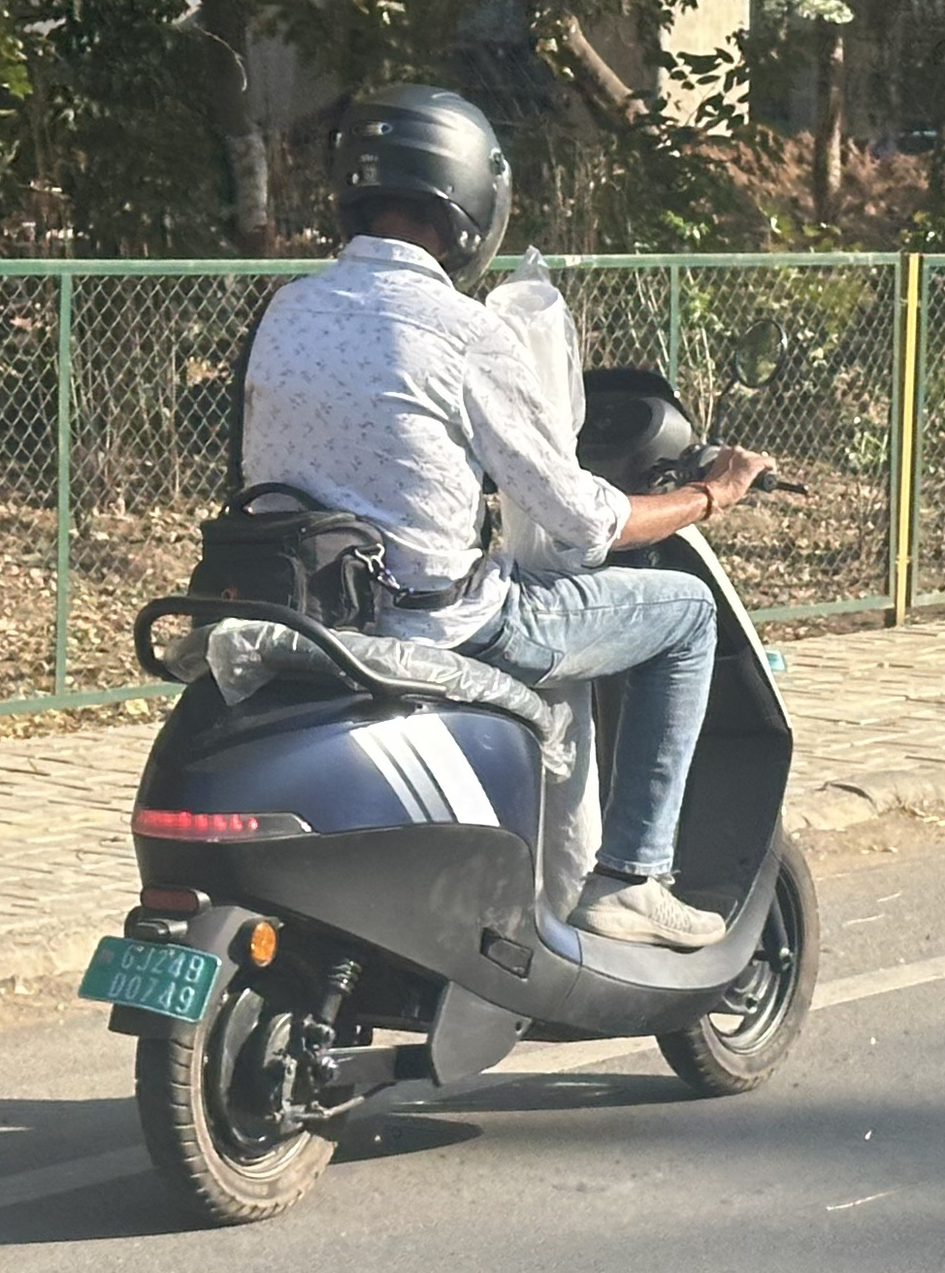BikeWithRider: (62, 60, 849, 1236)
Helmet: (298, 72, 538, 310)
